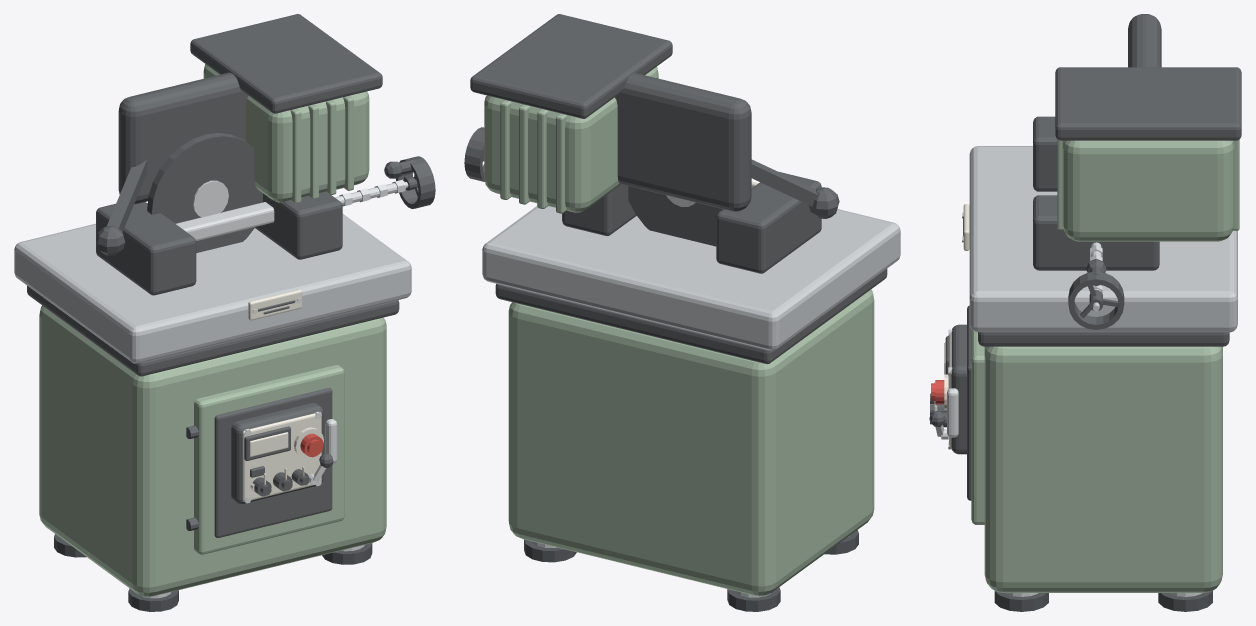
Rendered from abrasive-cut-off-saw.glb.
The picture shows the model from 3 angles, left to right: view 1: azimuth 30°, elevation 25°; view 2: azimuth 150°, elevation 25°; view 3: azimuth 270°, elevation 25°; orthographic projection. The views are drawn at different scales.
Parts seen in each view (by area): view 1: machine-shop-and-factory-hall-cut-off-saw, saw-blade-spin/charcoal, saw-blade-spin/steel; view 2: machine-shop-and-factory-hall-cut-off-saw, saw-blade-spin/charcoal; view 3: machine-shop-and-factory-hall-cut-off-saw.
Boxes of the visible parts, x1,y1,x2,y2 form: machine-shop-and-factory-hall-cut-off-saw: [14, 14, 435, 611]; saw-blade-spin/charcoal: [147, 133, 262, 252]; saw-blade-spin/steel: [193, 180, 228, 217]; machine-shop-and-factory-hall-cut-off-saw: [464, 14, 900, 611]; saw-blade-spin/charcoal: [628, 186, 722, 246]; machine-shop-and-factory-hall-cut-off-saw: [929, 14, 1241, 611].
Size of the model in its own units: 1.21 by 1.49 by 0.8381.
